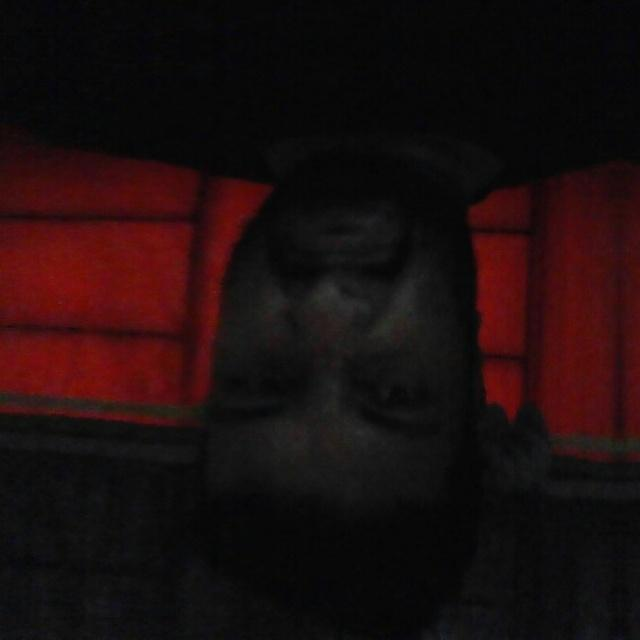Disgust: (109, 127, 553, 619)
